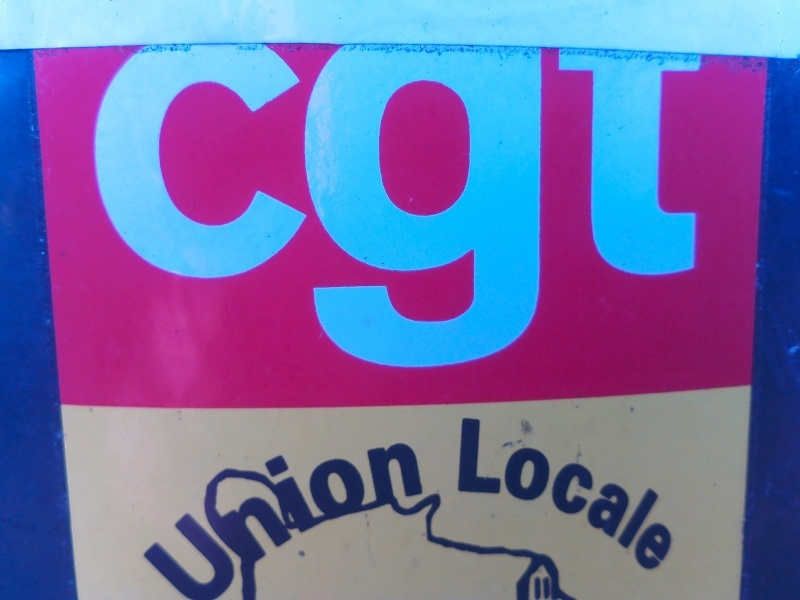text: (689, 44, 705, 370), (97, 44, 112, 370), (113, 44, 128, 370), (129, 44, 144, 370), (145, 44, 160, 370), (161, 44, 176, 370), (177, 44, 192, 370), (193, 44, 208, 370), (209, 44, 224, 370), (225, 44, 240, 370), (241, 44, 256, 370), (257, 44, 272, 370), (273, 44, 288, 370), (289, 44, 304, 370), (305, 44, 320, 370), (321, 44, 336, 370), (337, 44, 352, 370), (353, 44, 368, 370), (369, 44, 384, 370), (385, 44, 400, 370), (401, 44, 416, 370), (417, 44, 432, 370), (433, 44, 448, 370), (449, 44, 464, 370), (465, 44, 480, 370), (481, 44, 496, 370), (497, 44, 512, 370), (513, 44, 528, 370), (529, 44, 544, 370), (545, 44, 560, 370), (561, 44, 576, 370), (577, 44, 592, 370), (593, 44, 608, 370), (609, 44, 624, 370), (625, 44, 640, 370), (641, 44, 656, 370), (657, 44, 672, 370), (673, 44, 688, 370), (145, 343, 160, 599), (161, 343, 176, 599), (177, 343, 192, 599), (193, 343, 208, 599), (209, 343, 224, 599), (225, 343, 240, 599), (241, 343, 256, 599), (257, 343, 272, 599), (273, 343, 288, 599), (289, 343, 304, 599), (305, 343, 320, 599), (321, 343, 336, 599), (337, 343, 352, 599), (353, 343, 368, 599), (369, 343, 384, 599), (385, 343, 400, 599), (401, 343, 416, 599), (417, 343, 432, 599), (465, 401, 480, 577), (481, 401, 496, 577), (497, 401, 512, 577), (513, 401, 528, 577), (529, 401, 544, 577), (545, 401, 560, 577), (561, 401, 576, 577), (577, 401, 592, 577), (593, 401, 608, 577), (609, 401, 624, 577), (625, 401, 640, 577), (641, 401, 656, 577), (657, 401, 672, 577), (673, 401, 688, 577), (689, 401, 704, 577), (136, 343, 144, 599), (433, 343, 440, 599), (92, 44, 96, 370), (705, 401, 711, 577), (461, 401, 464, 577)
